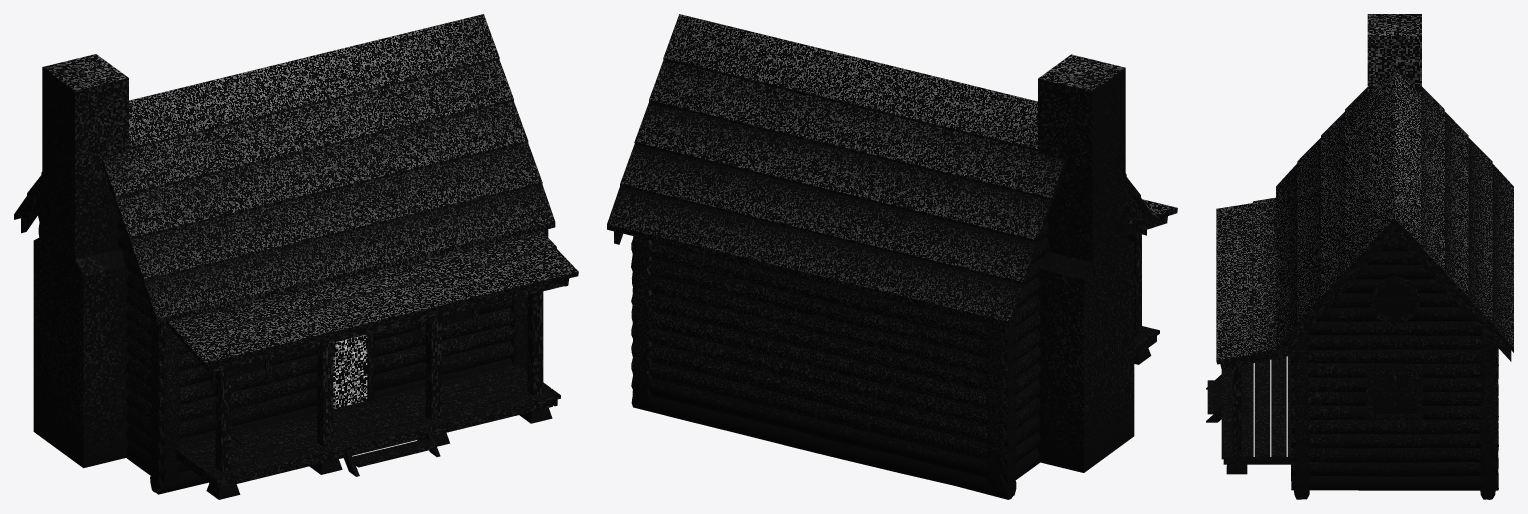
Rendered from void_house.glb.
3 renders of one model, left to right at view 1: azimuth 30°, elevation 25°; view 2: azimuth 150°, elevation 25°; view 3: azimuth 270°, elevation 25°, orthographic. The views are drawn at different scales.
Parts seen in each view (by area): view 1: void house, Door; view 2: void house; view 3: void house.
Part boxes in pixels (x1=…): void house: x1=14, y1=14, x2=578, y2=499; Door: x1=333, y1=334, x2=367, y2=408; void house: x1=607, y1=14, x2=1177, y2=499; void house: x1=1206, y1=14, x2=1513, y2=499.
Size of what is drawn, in the model's own units: 7.9 by 6.8 by 5.95.
Materials: 2 (2 with a texture image).
